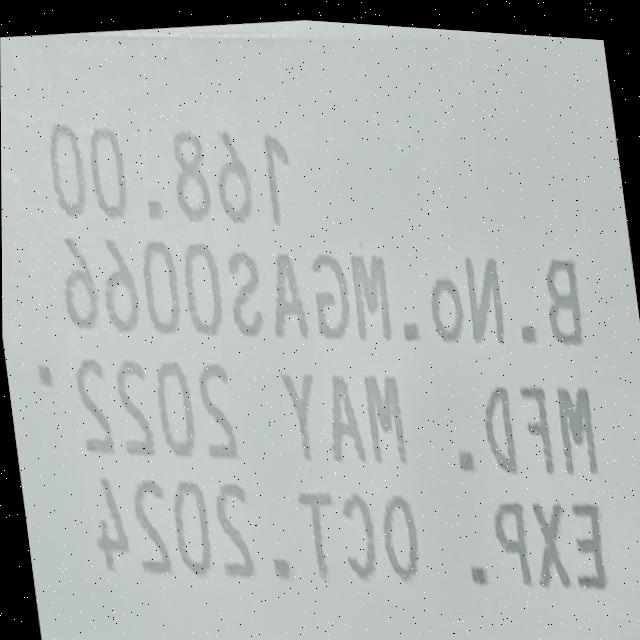sentence: (26, 349, 598, 482), (96, 473, 607, 586), (64, 238, 582, 343), (48, 122, 289, 219)
